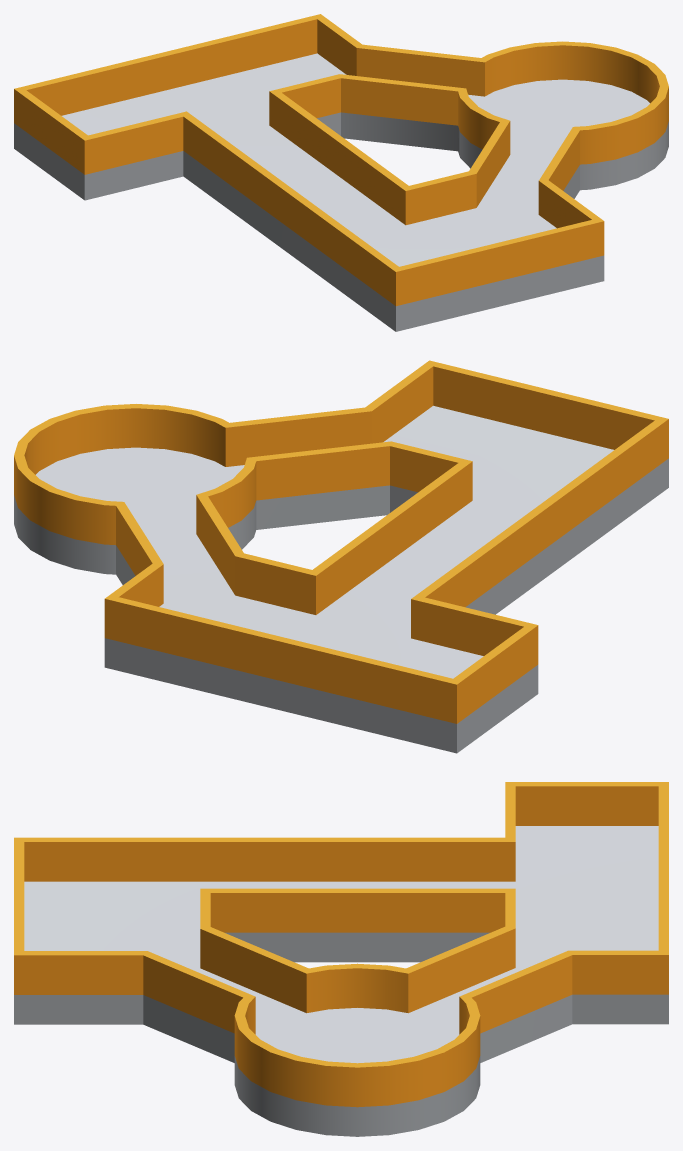
File: platform_23.fbx
The picture shows the model from 3 angles, top to bottom: view 1: azimuth 30°, elevation 25°; view 2: azimuth 150°, elevation 25°; view 3: azimuth 270°, elevation 25°; orthographic projection. The views are drawn at different scales.
Visible parts, largest first — view 1: Cylinder.030, Cylinder.027; view 2: Cylinder.030, Cylinder.027; view 3: Cylinder.030, Cylinder.027.
Part boxes in pixels (box(x1,y1,x2,y2)): Cylinder.030: box(14, 14, 668, 306); Cylinder.027: box(14, 53, 668, 331); Cylinder.030: box(14, 360, 668, 723); Cylinder.027: box(14, 405, 668, 753); Cylinder.030: box(14, 782, 668, 1107); Cylinder.027: box(14, 826, 668, 1136).
Size of the model in its own units: 6188 by 700 by 5998.
Materials: 1 (1 with a texture image).
